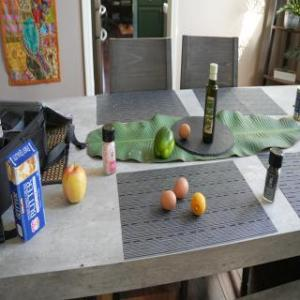bell_pepper: (152, 124, 176, 160)
egg: (174, 176, 188, 196), (177, 121, 191, 140), (162, 190, 175, 208)
